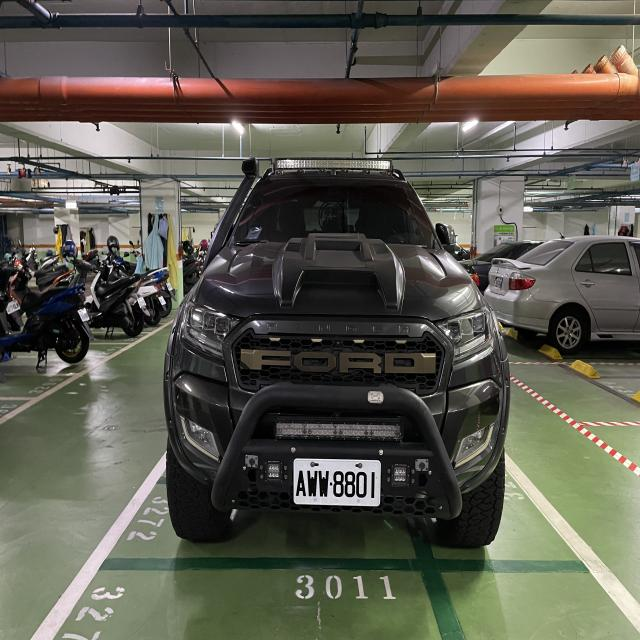license-plate: (293, 458, 382, 508)
